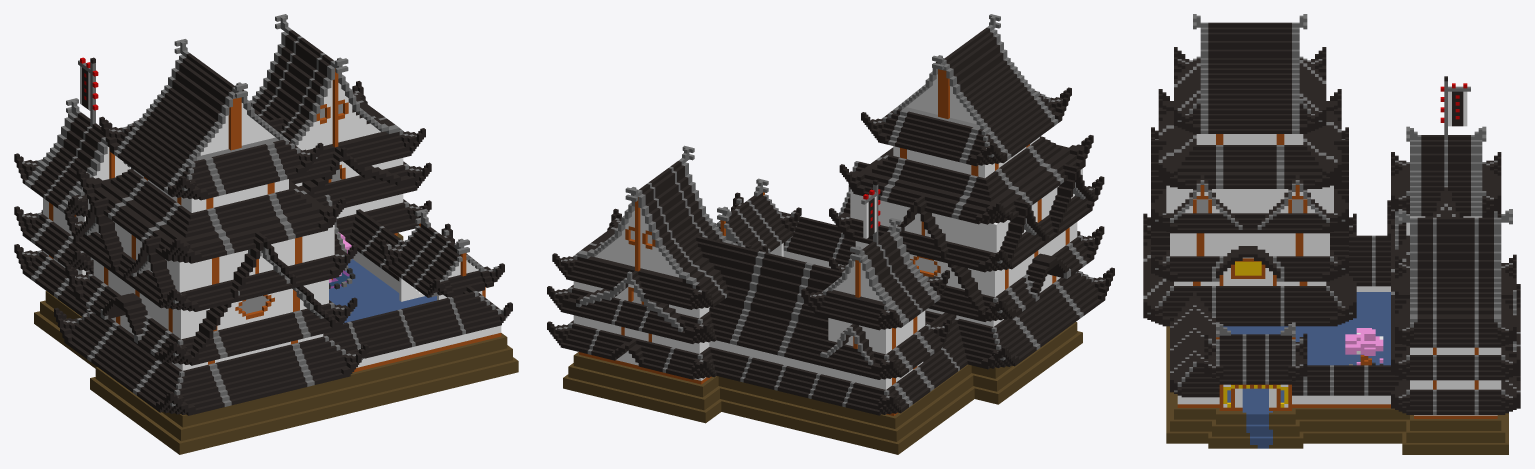
The model's file is castle.obj.
3 views of the same model, side by side, from view 1: azimuth 30°, elevation 25°; view 2: azimuth 150°, elevation 25°; view 3: azimuth 270°, elevation 25° (orthographic). The views are drawn at different scales.
Size of the model in its own units: 110 by 90 by 99.
Materials: 1 (1 with a texture image).
